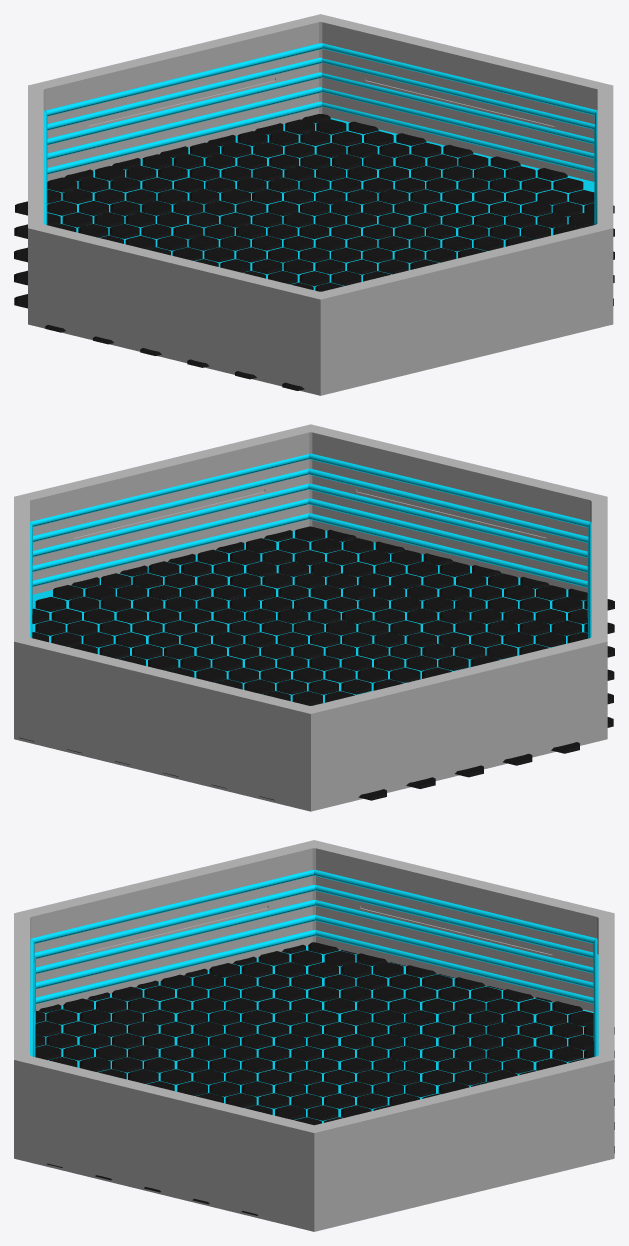
Rendered from SceneVR.FBX.
3 views of the same model, one above another, from view 1: azimuth 30°, elevation 25°; view 2: azimuth 150°, elevation 25°; view 3: azimuth 270°, elevation 25° (orthographic). The views are drawn at different scales.
Visible parts, largest first — view 1: walls, FloorHexagonals, Floor, Cylinder014, Cylinder015, Cylinder009, Cylinder003, Cylinder006, Cylinder012, Cylinder011, Cylinder008, Cylinder002 (+2 smaller); view 2: walls, FloorHexagonals, Floor, Cylinder014, Cylinder012, Cylinder003, Cylinder006, Cylinder009, Cylinder015, Cylinder005, Cylinder002, Cylinder011 (+1 smaller); view 3: walls, FloorHexagonals, Floor, Cylinder016, Cylinder013, Cylinder004, Cylinder007, Cylinder010, Cylinder015.
Part boxes in pixels (x1,y1,x2,y2): walls: (28, 14, 613, 395); FloorHexagonals: (14, 114, 614, 390); Floor: (47, 118, 594, 290); Cylinder014: (322, 43, 597, 224); Cylinder015: (45, 43, 322, 116); Cylinder009: (47, 72, 321, 144); Cylinder003: (47, 101, 321, 174); Cylinder006: (47, 87, 321, 159); Cylinder012: (47, 57, 321, 130); Cylinder011: (322, 58, 595, 224); Cylinder008: (322, 73, 594, 198); Cylinder002: (322, 102, 594, 224); walls: (14, 424, 607, 811); FloorHexagonals: (19, 526, 614, 800); Floor: (32, 530, 587, 702); Cylinder014: (30, 454, 308, 637); Cylinder012: (308, 468, 588, 542); Cylinder003: (308, 513, 587, 587); Cylinder006: (308, 498, 587, 572); Cylinder009: (308, 483, 587, 557); Cylinder015: (309, 453, 590, 527); Cylinder005: (32, 498, 308, 571); Cylinder002: (32, 513, 308, 586); Cylinder011: (33, 469, 308, 542); walls: (14, 840, 614, 1231); FloorHexagonals: (35, 942, 614, 1215); Floor: (36, 945, 593, 1123); Cylinder016: (31, 870, 597, 944); Cylinder013: (34, 885, 597, 958); Cylinder004: (36, 930, 593, 1003); Cylinder007: (36, 915, 593, 988); Cylinder010: (36, 900, 593, 973); Cylinder015: (30, 939, 597, 1056).
Size of the model in its own units: 199 by 31.35 by 173.
